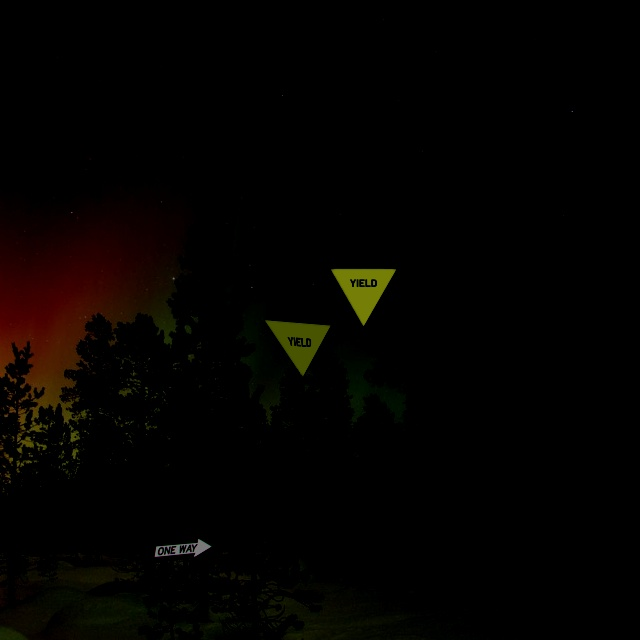ONE_WAY_ right: (149, 536, 218, 563)
YIELD: (329, 268, 398, 328), (263, 319, 332, 378)
